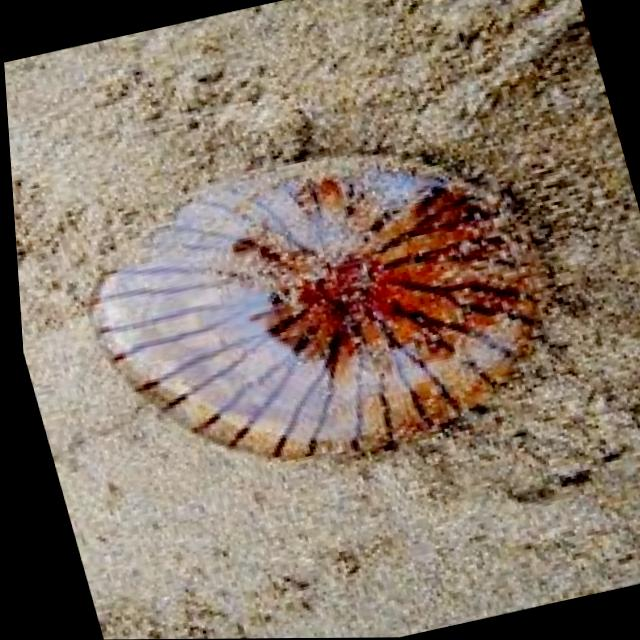Box-jellyfish: (48, 113, 587, 512)
